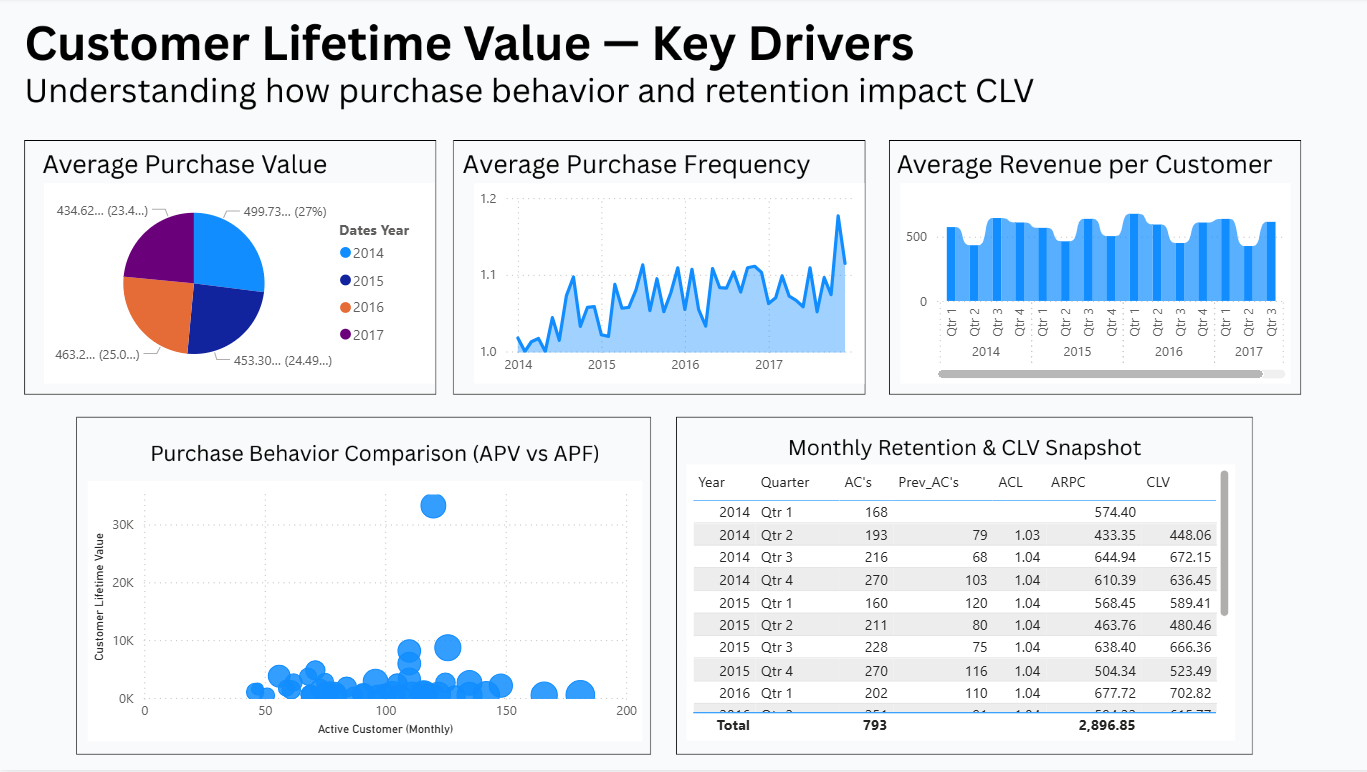

The page's visual inventory and layout, read from the dashboard file:
{"tool":"powerbi","page":{"name":"CLV- 2","canvas":[1280,720],"ordinal":1},"visuals":[{"type":"pieChart","fields":{"Category":["Order - Dates.Dates.Variation.Date Hierarchy.Year"],"Y":["Superstore.Average Purchase Value (revenue per order)"]},"box":[41.7,173.3,363.3,186.7],"z":0},{"type":"areaChart","fields":{"Category":["Order - Dates.Dates.Variation.Date Hierarchy.Year","Order - Dates.Dates.Variation.Date Hierarchy.Quarter","Order - Dates.Dates.Variation.Date Hierarchy.Month"],"Y":["Superstore.Average Purchase Frequency (APF)"]},"box":[441.7,173.3,363.3,186.7],"z":1000},{"type":"ribbonChart","fields":{"Category":["Order - Dates.Dates.Variation.Date Hierarchy.Year","Order - Dates.Dates.Variation.Date Hierarchy.Quarter"],"Y":["Superstore.Average Revenue per Customer (ARPC)"]},"box":[838.3,173.3,363.3,186.7],"z":2000},{"type":"tableEx","fields":{"Values":["Order - Dates.Dates.Variation.Date Hierarchy.Year","Order - Dates.Dates.Variation.Date Hierarchy.Quarter","Superstore.Active Customers","Superstore.Previous Month Active Customers","Superstore.Average Customer Lifespan (months)","Superstore.Average Revenue per Customer (ARPC)","Superstore.-- CLV using ARPC * Avg LifespanCLV (ARPC * Lifespan)"]},"box":[640,435,510,256.7],"z":3000},{"type":"scatterChart","fields":{"Category":["Order - Dates.YearMonthLabel"],"X":["Superstore.Active Customers"],"Y":["Superstore.-- CLV using ARPC * Avg LifespanCLV (ARPC * Lifespan)"],"Size":["Superstore.Total Sales"]},"box":[82,450,516,242],"z":4000}]}

Visuals, with their boxes in screenshot pixels (x1, y1, x2, y2), scaled from the page's 1280x720 canvas onto the 1367x772 screenshot:
pieChart - Order - Dates.Dates.Variation.Date Hierarchy.Year x Superstore.Average Purchase Value (revenue per order): bbox=[45, 186, 433, 386]
areaChart - Order - Dates.Dates.Variation.Date Hierarchy.Year x Order - Dates.Dates.Variation.Date Hierarchy.Quarter: bbox=[472, 186, 860, 386]
ribbonChart - Order - Dates.Dates.Variation.Date Hierarchy.Year x Order - Dates.Dates.Variation.Date Hierarchy.Quarter: bbox=[895, 186, 1283, 386]
tableEx - Order - Dates.Dates.Variation.Date Hierarchy.Year x Order - Dates.Dates.Variation.Date Hierarchy.Quarter: bbox=[684, 466, 1228, 742]
scatterChart - Order - Dates.YearMonthLabel x Superstore.Active Customers: bbox=[88, 482, 639, 742]
